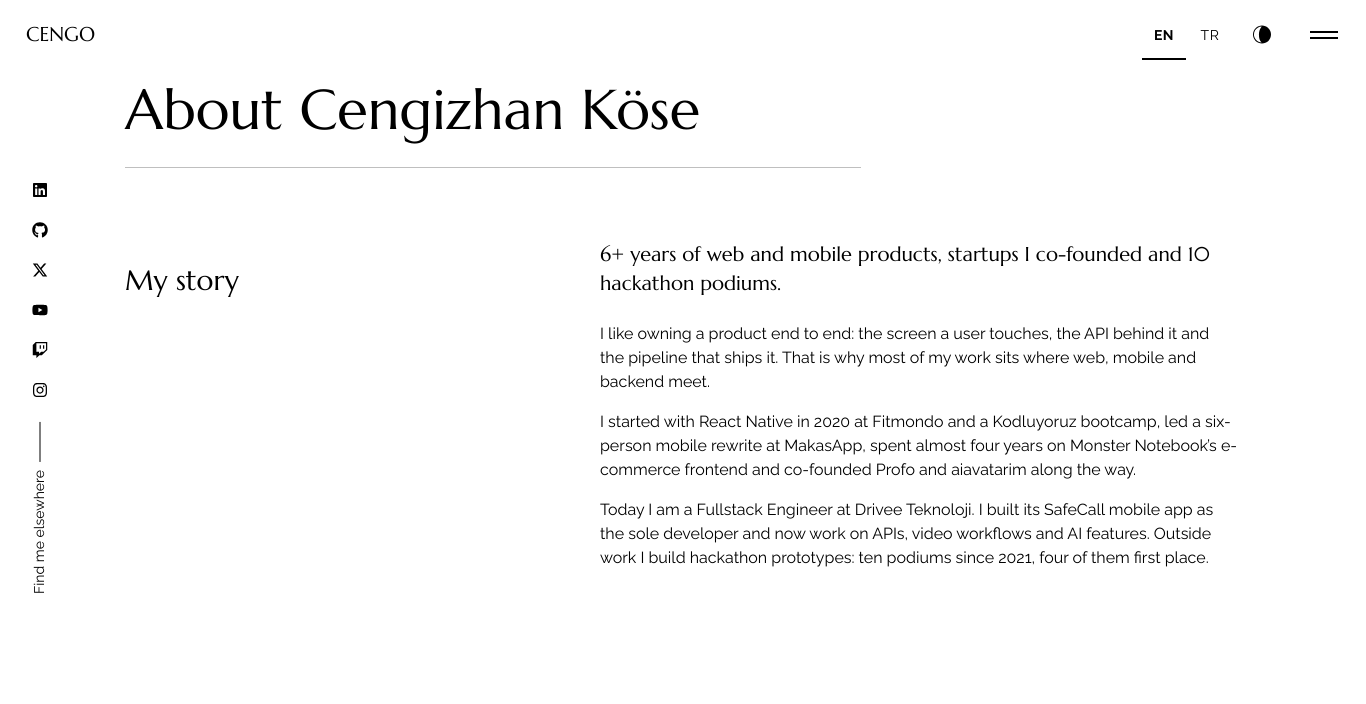
Test: opening and closing › closes when the link to the current page is chosen
Click the button named "Menu" at (1324, 35), box [1292,10,1356,60]
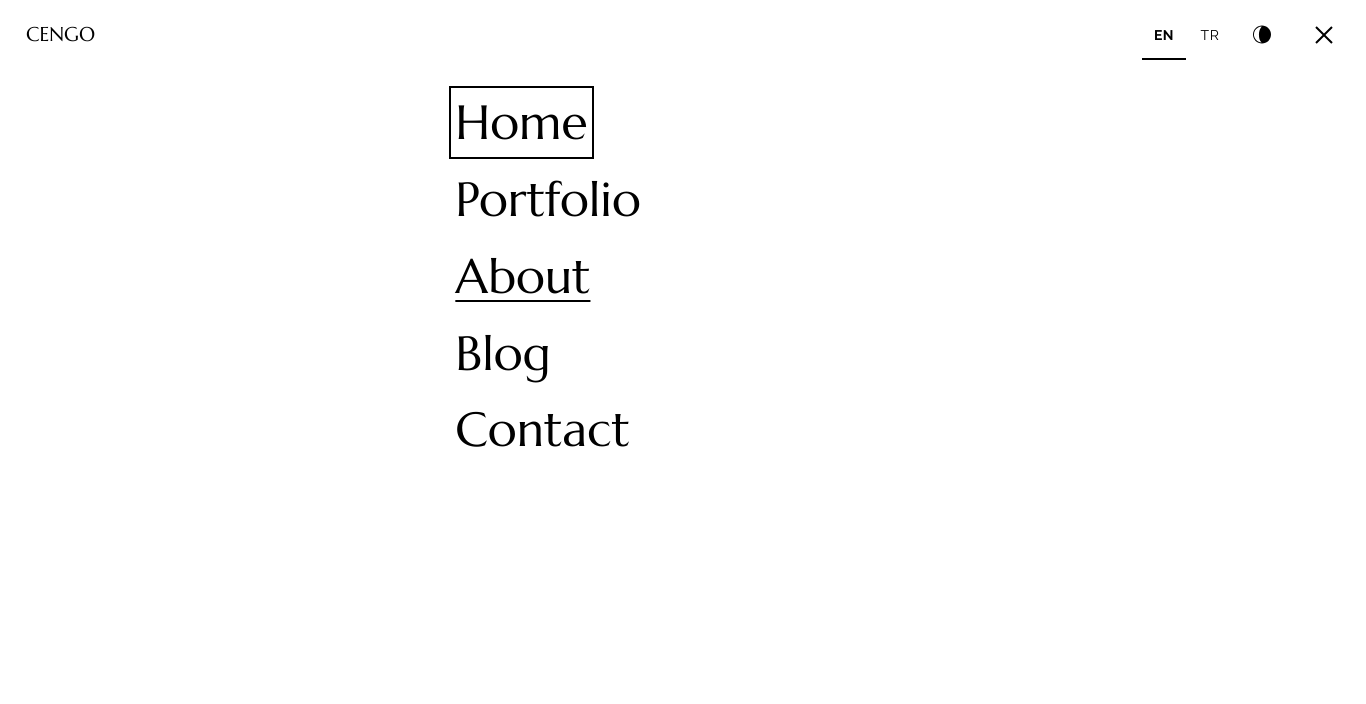
Click the link "About" at (523, 276), box [455,246,590,307]
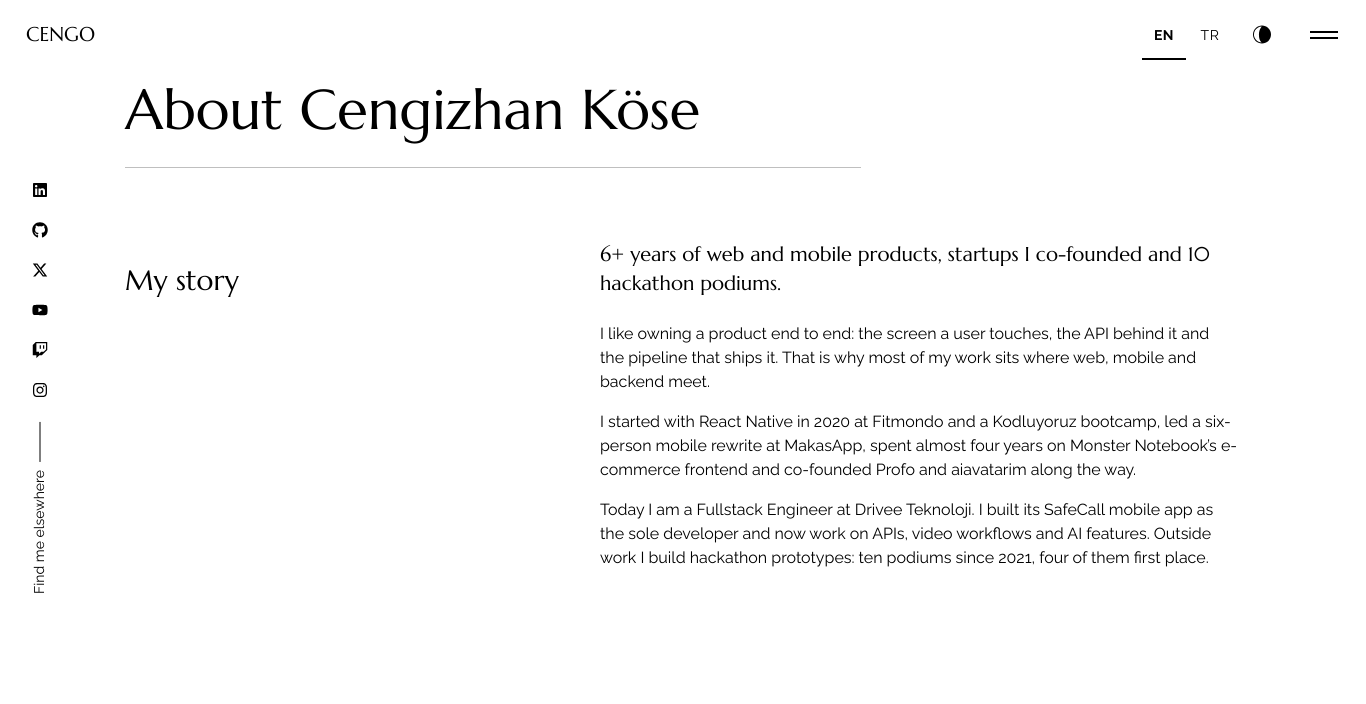
Result: the button named "Menu" is collapsed at [1292,10,1356,60]
